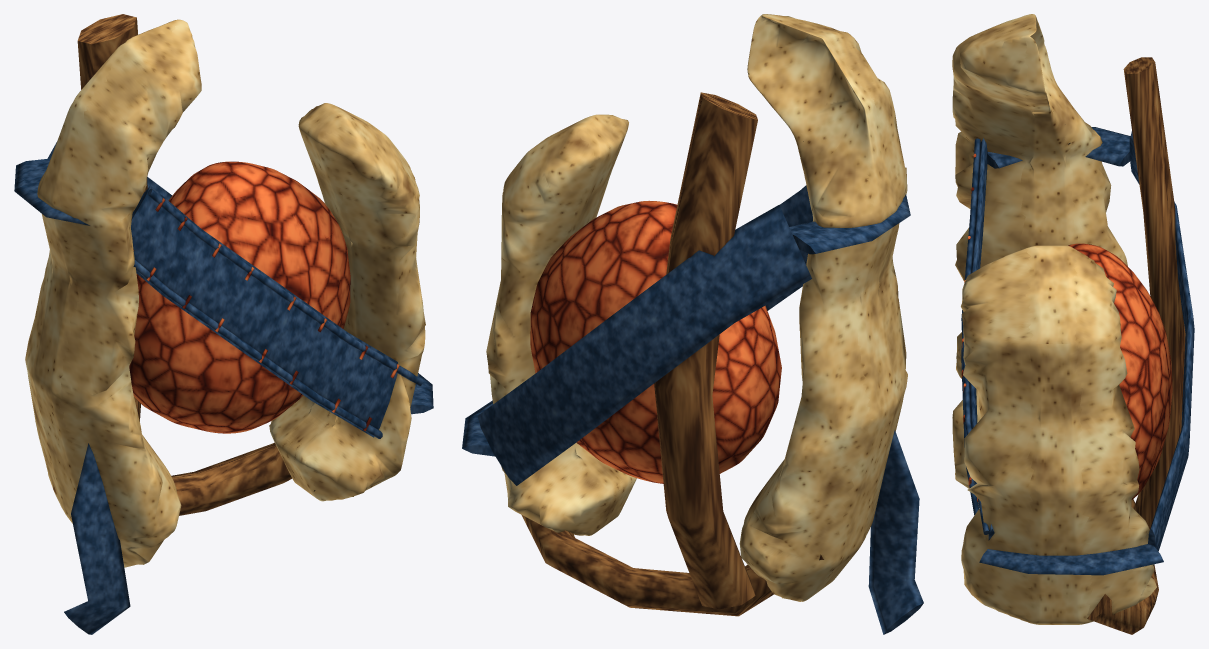
File: carved_capsule_baked.obj
The picture shows the model from 3 angles, left to right: view 1: azimuth 30°, elevation 25°; view 2: azimuth 150°, elevation 25°; view 3: azimuth 270°, elevation 25°; orthographic projection. The views are drawn at different scales.
Visible parts, largest first — view 1: BakedAssembly.001_carved_capsule_baked_surface; view 2: BakedAssembly.001_carved_capsule_baked_surface; view 3: BakedAssembly.001_carved_capsule_baked_surface.
Part boxes in pixels (left/top/right/bottom): BakedAssembly.001_carved_capsule_baked_surface: left=14, top=14, right=433, bottom=634; BakedAssembly.001_carved_capsule_baked_surface: left=462, top=14, right=923, bottom=634; BakedAssembly.001_carved_capsule_baked_surface: left=952, top=14, right=1194, bottom=634.
Bounding box in the file's own units: 2.52 × 3.59 × 1.37.
